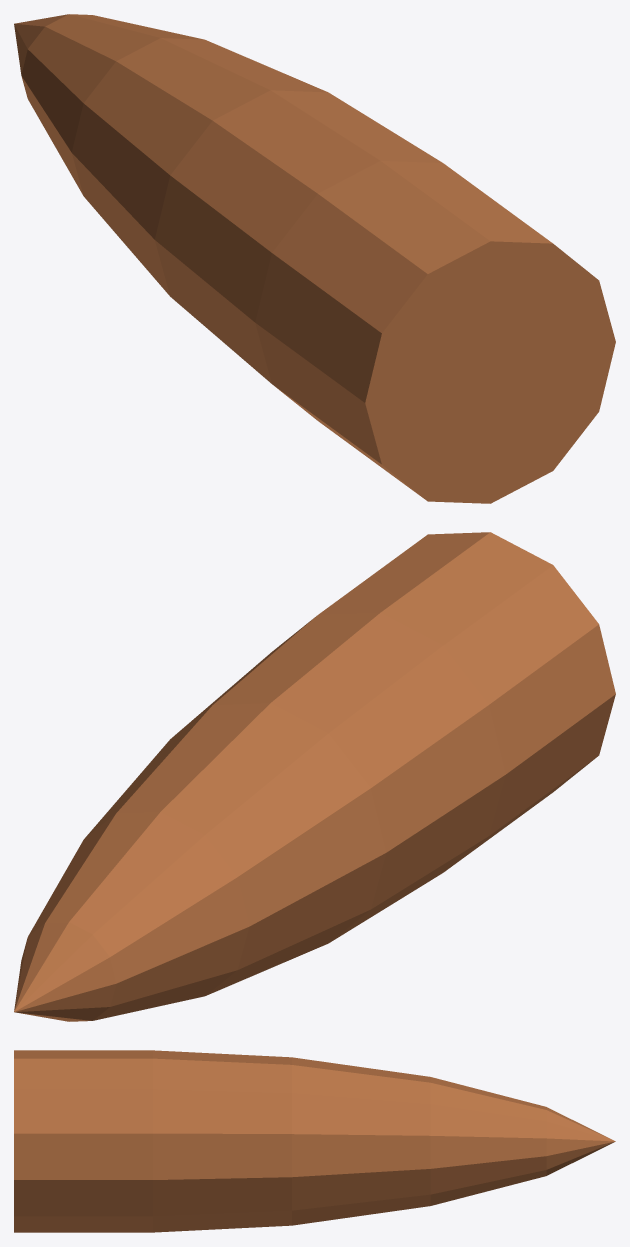
File: bullet_projectile.glb
The picture shows the model from 3 angles, top to bottom: view 1: azimuth 30°, elevation 25°; view 2: azimuth 150°, elevation 25°; view 3: azimuth 270°, elevation 25°; orthographic projection. The views are drawn at different scales.
Visible parts, largest first — view 1: Projectile; view 2: Projectile; view 3: Projectile.
Boxes of the visible parts, x1,y1,x2,y2 form: Projectile: (14, 14, 615, 503); Projectile: (14, 532, 615, 1021); Projectile: (14, 1050, 615, 1232).
Bounding box in the file's own units: 0.0079 × 0.0079 × 0.026.
